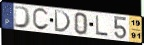0: (74, 12, 89, 36)
5: (113, 15, 128, 40)
C: (32, 8, 50, 32)
D: (53, 9, 72, 34), (14, 5, 33, 29)
L: (95, 15, 110, 37)
